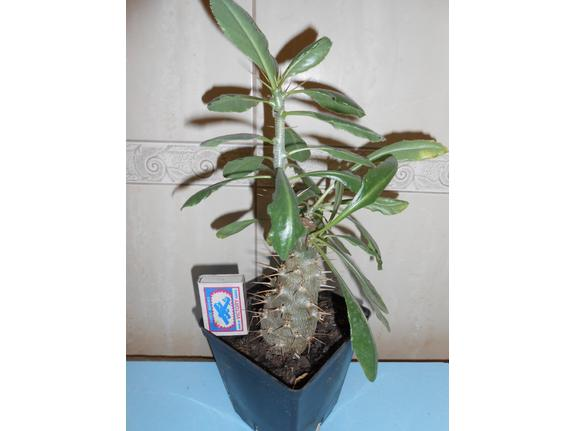Pachypodium saundersii: (182, 12, 442, 387)
